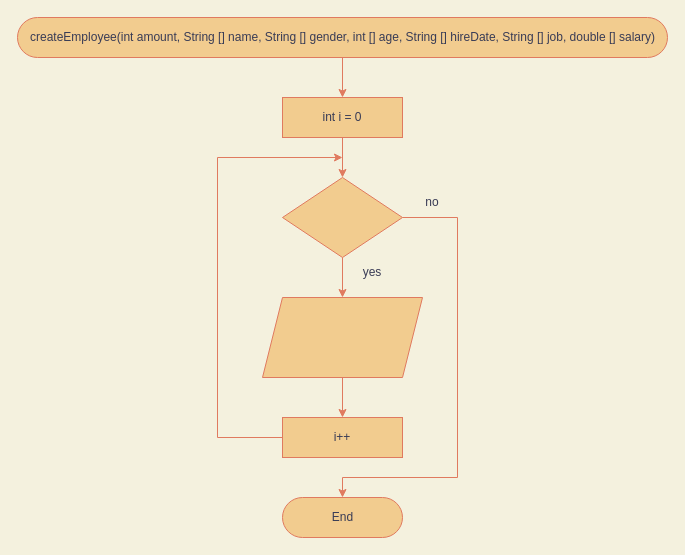
The diagram is 685 pixels wide and 555 high, and some of its shapes have lost their labels. Each missing label, with the centre of its shape:
"i < amount" goes at point 342,217.
"input name[i], gender[i], age[i], hireDate[i], job[i], salary[i]" goes at point 342,337.
